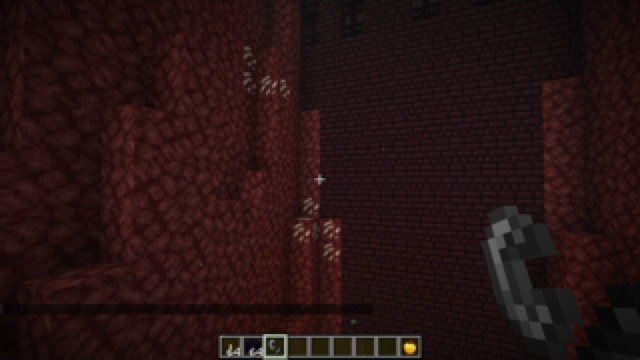quartz: (290, 195, 342, 265), (241, 43, 294, 100)
